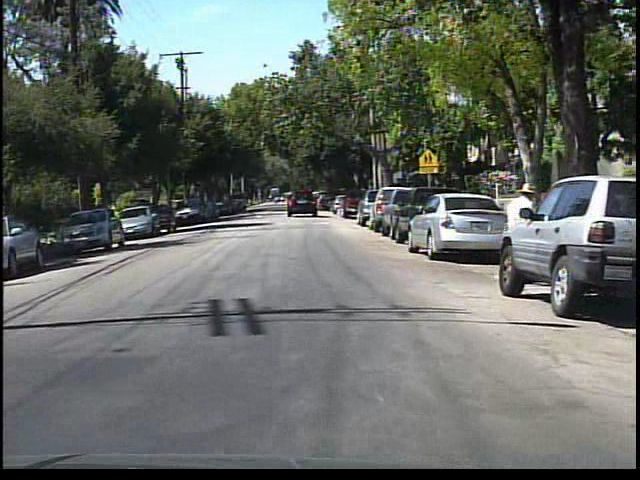person: (498, 178, 540, 294)
